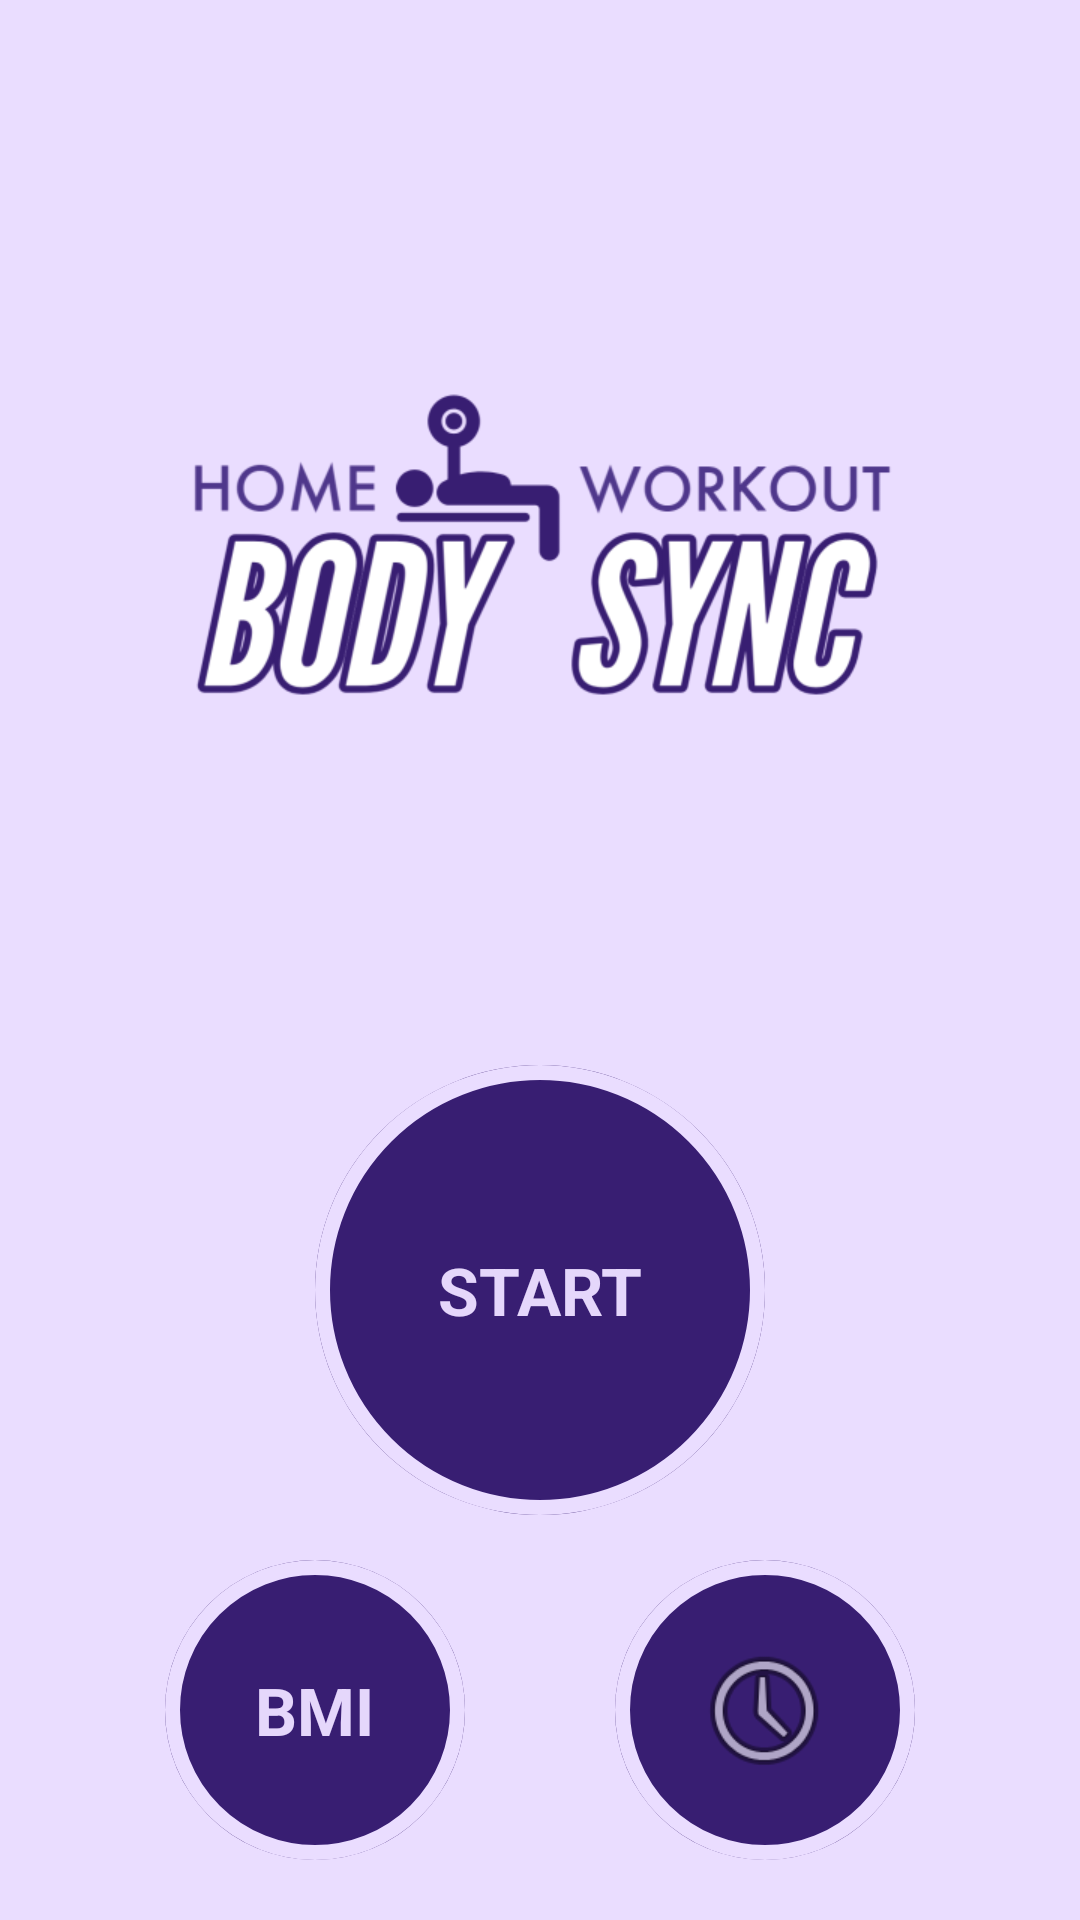

Where icons sit on this 1080 × 1920 app screen, as (left=x1, top=y1, right=x2, bottom=y2):
recent history: (left=710, top=1657, right=818, bottom=1765)
